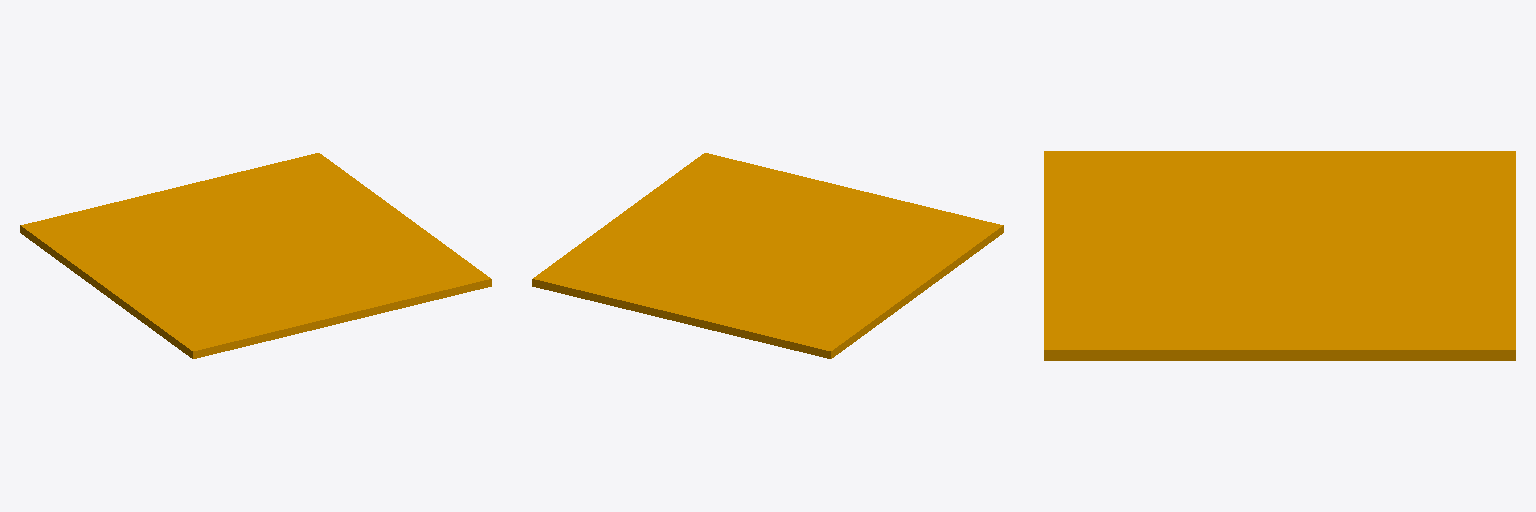
robot.urdf — track:
<?xml version="1.0"?> 
<robot name="track">
    <link name="base_link">
        <visual> 
            <geometry> 
                <box size="20 20 0.5"/>
            </geometry>
	    <material name=""> 
                <texture filename="track_smaller.png" />
            </material>
        </visual>
	<collision> 
            <geometry> 
                <box size="20 20 0.5"/>
            </geometry>
        </collision> 
        <inertial> 
            <mass value="0"/>
            <inertia ixx="0" ixy="0" ixz="0" iyy="0" iyz="0" izz="0"/>
        </inertial> 
        <contact> 
            <lateral_friction value="4"/>
        </contact>
    </link>
</robot>

--- What the picture shows (computed from the rendered views, not written in the file) ---
The picture shows the robot from 3 angles, left to right: view 1: azimuth 30°, elevation 25°; view 2: azimuth 150°, elevation 25°; view 3: azimuth 270°, elevation 25°; orthographic projection.
Robot: track — 1 links, 0 joints (none); root link base_link; default pose: every joint at zero.
Links seen in each view (by area): view 1: base_link; view 2: base_link; view 3: base_link.
Link boxes in pixels (x1=…): base_link: x1=20, y1=153, x2=491, y2=358; base_link: x1=532, y1=153, x2=1003, y2=358; base_link: x1=1044, y1=151, x2=1515, y2=360.
Size in the robot's own frame: 20 by 20 by 0.5 metres.
Geometry: primitives only (box / cylinder / sphere), no mesh files.